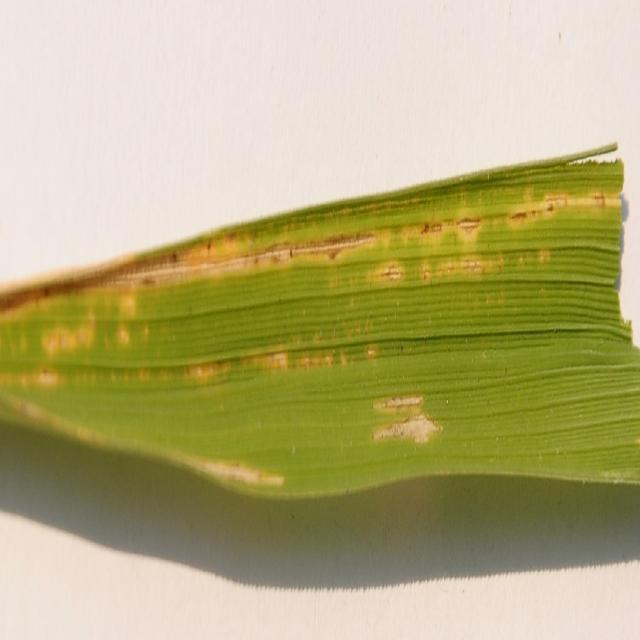bacterial_leaf_blight: (0, 229, 371, 311), (373, 397, 440, 443), (189, 459, 284, 486), (458, 219, 479, 232), (383, 265, 401, 280)
